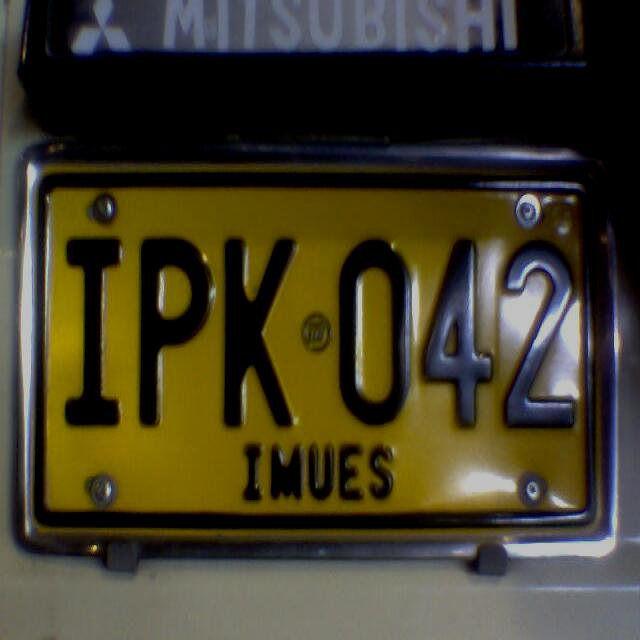placa: (20, 144, 610, 552)
